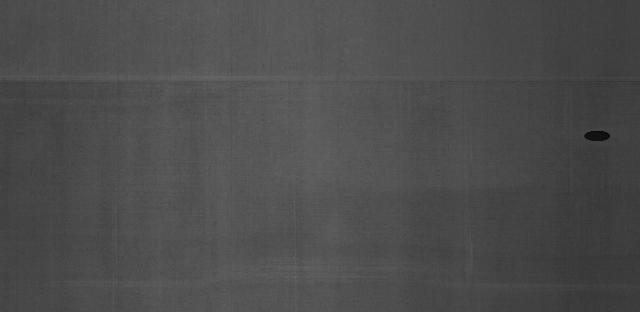punching_hole: (580, 127, 614, 145)
welding_line: (2, 67, 638, 91)
